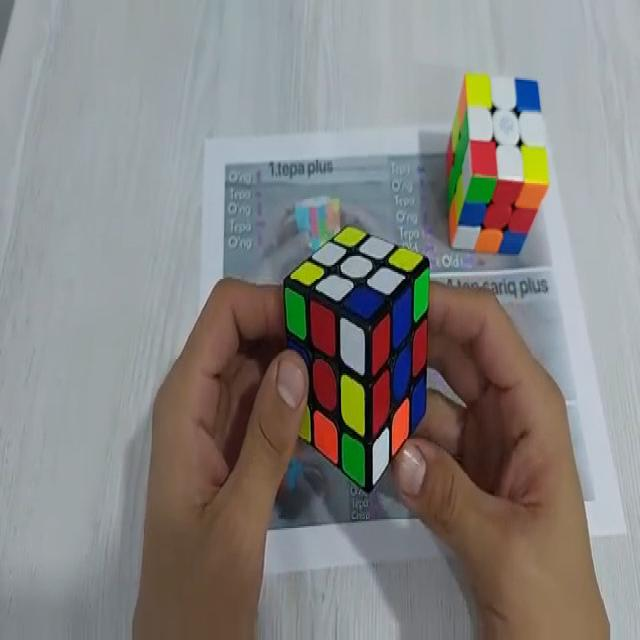Rub: (284, 225, 430, 491), (445, 72, 550, 254)
